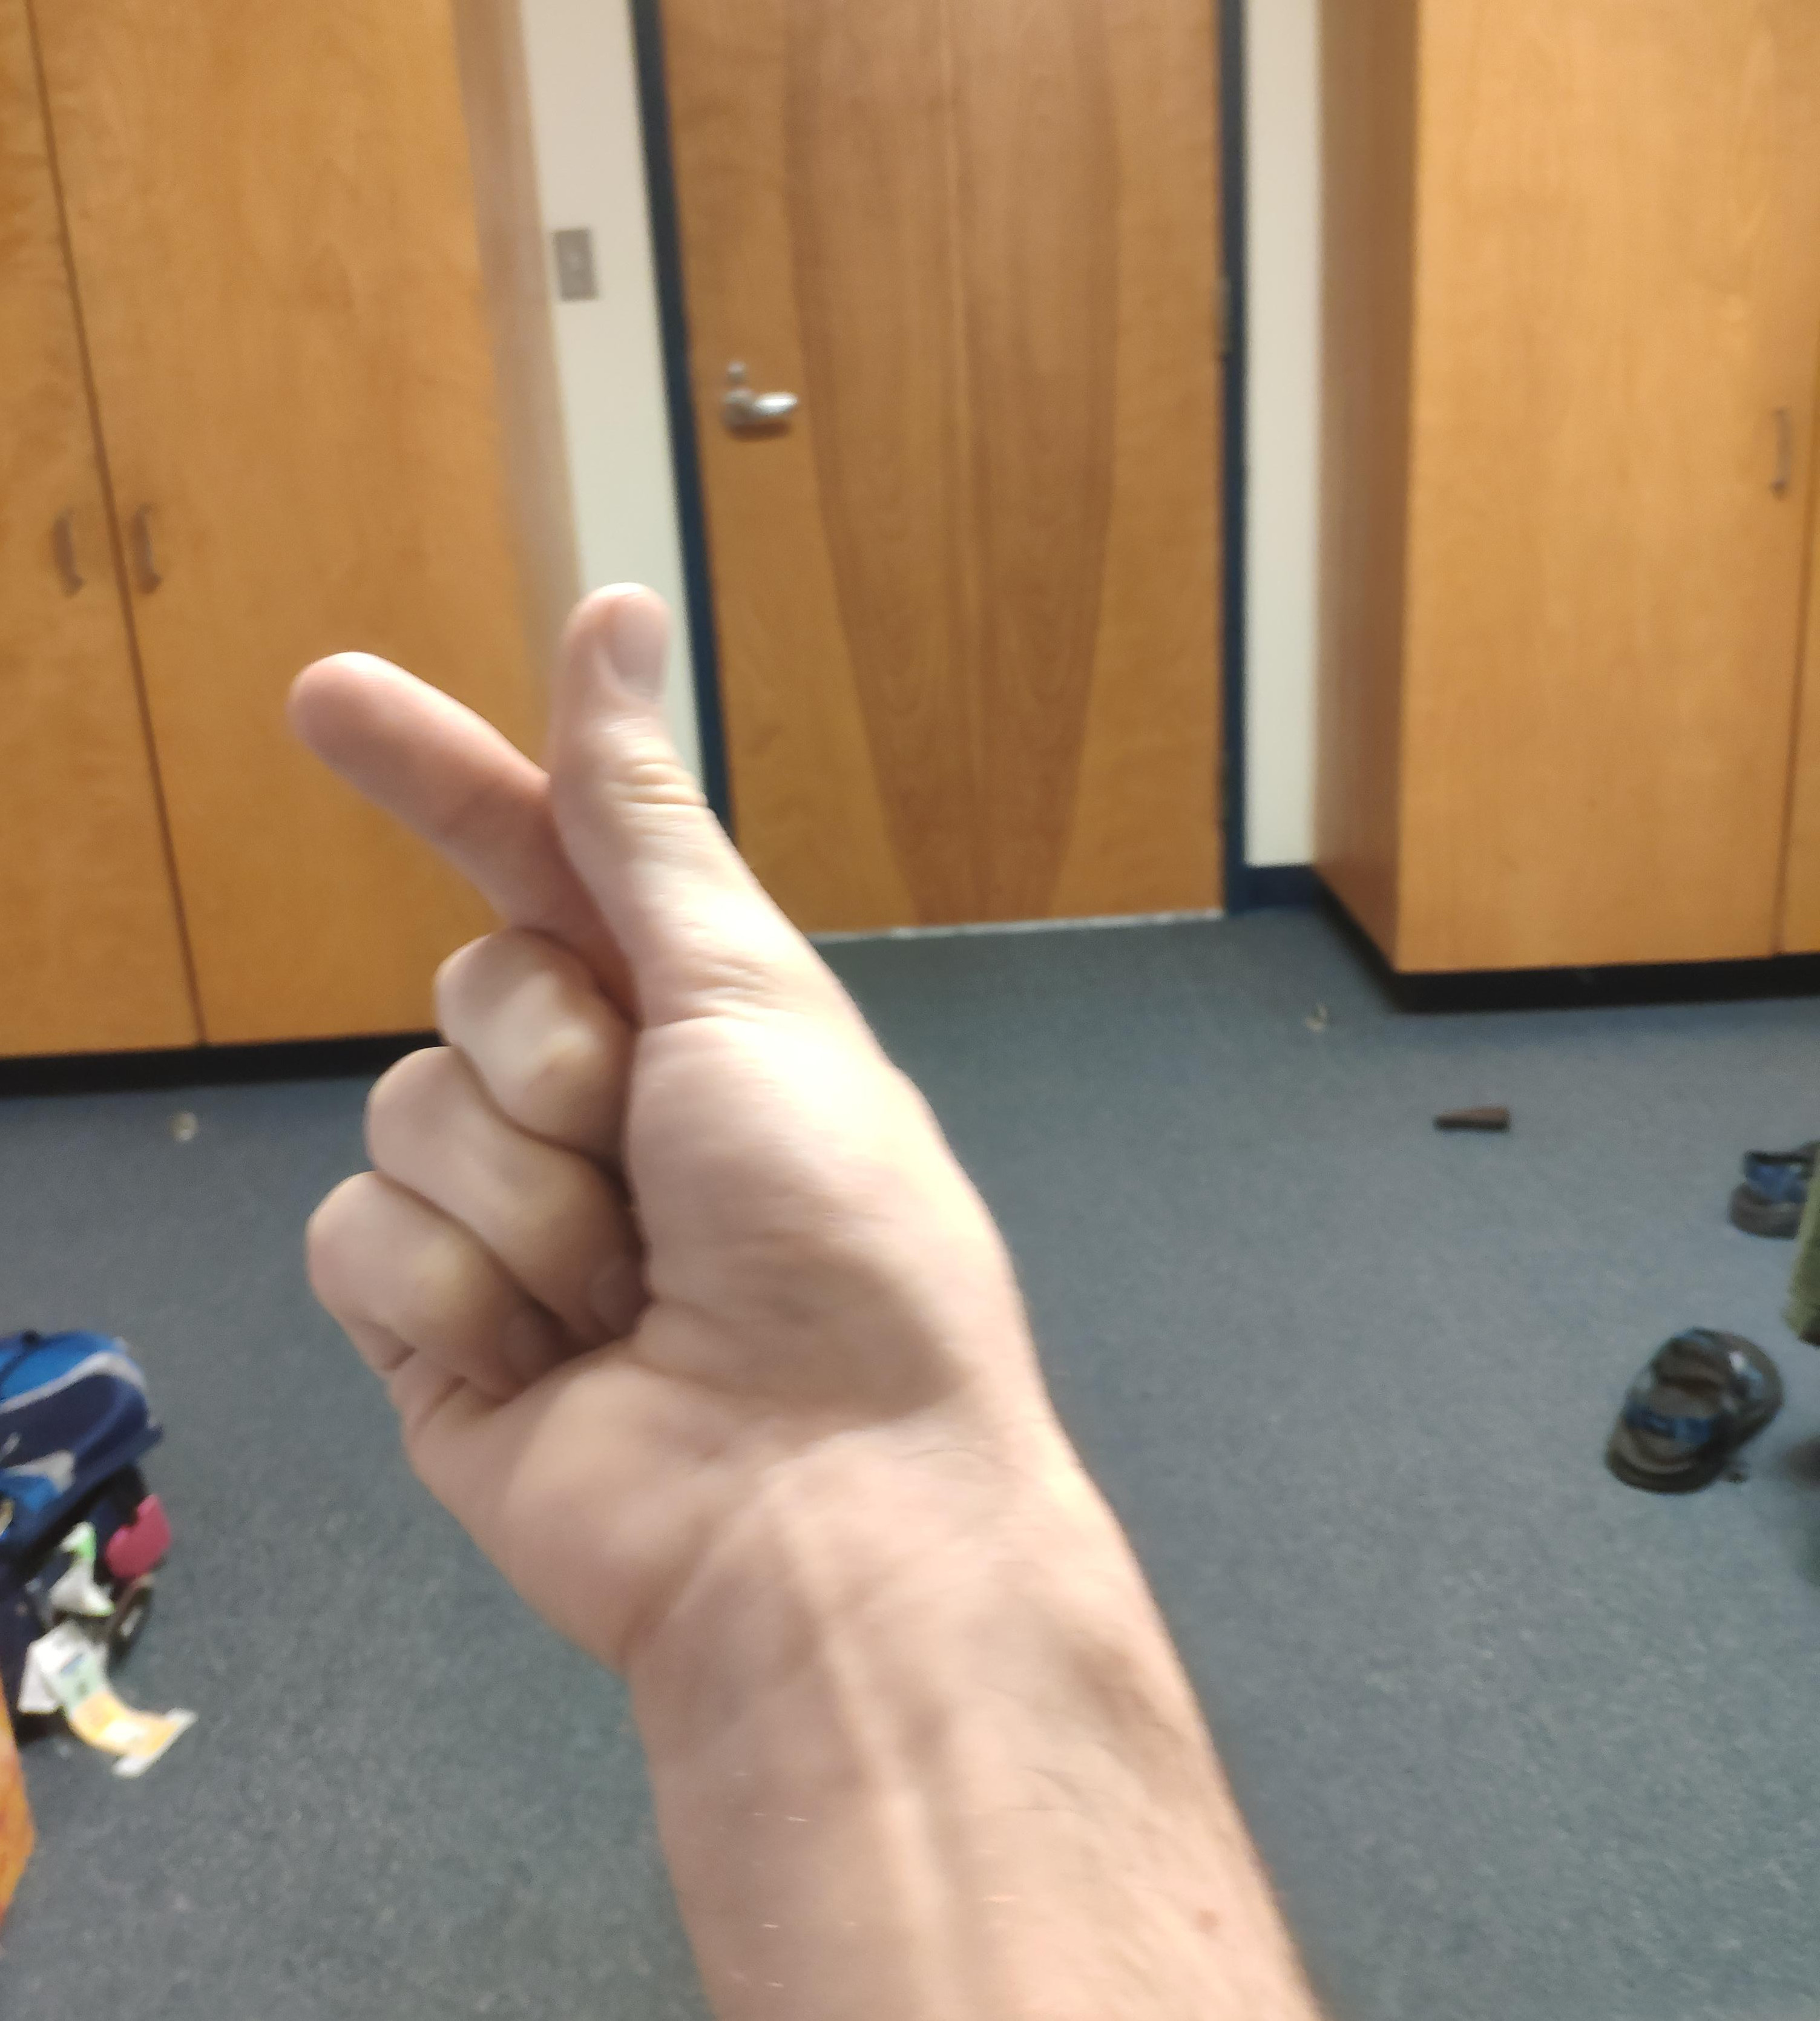heart gesture: (278, 568, 717, 910)
